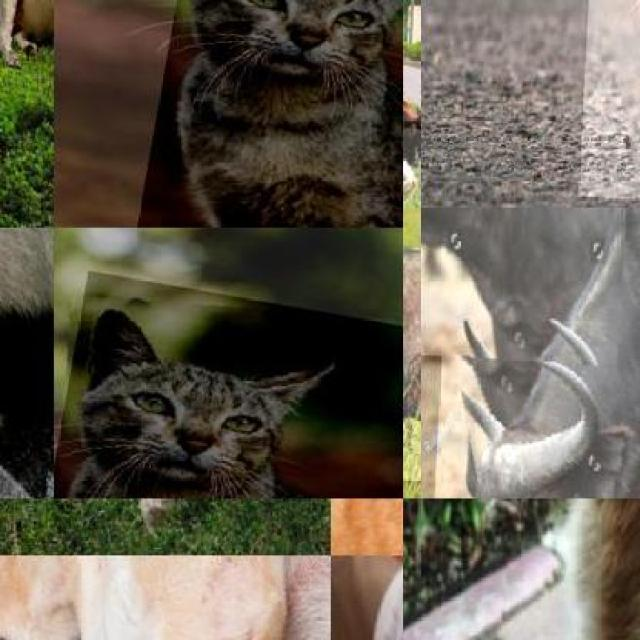buffalo: (421, 207, 640, 498), (420, 208, 629, 364)
cat: (54, 270, 403, 498), (109, 0, 403, 228), (577, 0, 640, 208)
cow: (34, 498, 331, 556), (0, 0, 54, 91)
dog: (0, 555, 331, 640), (524, 498, 640, 639)
injured: (403, 262, 420, 422)
